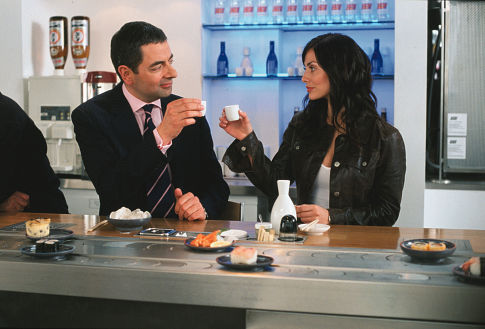32: (296, 39, 338, 108)
42: (125, 33, 182, 105)
Coat: (54, 71, 244, 231)
Female: (296, 39, 338, 108)
Jacket: (220, 68, 417, 233)
Male: (125, 33, 182, 105)
Tie: (137, 102, 179, 222)
Vest: (304, 154, 341, 234)
